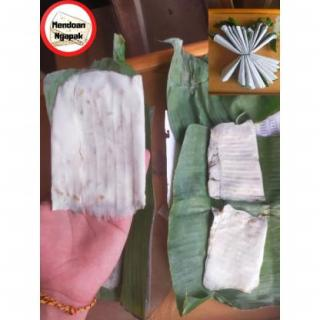Tempe: (49, 70, 148, 218), (202, 206, 269, 294), (205, 119, 267, 203)
